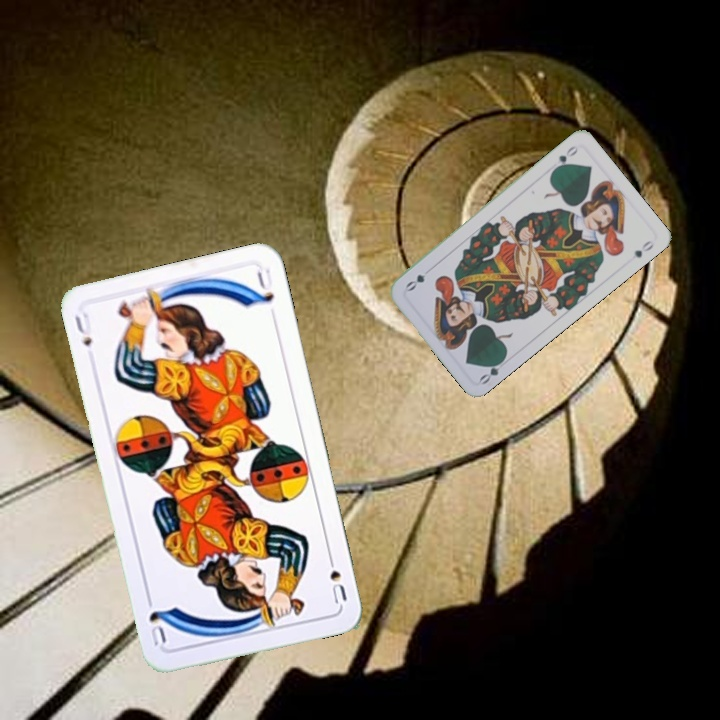GO: (475, 353, 508, 387), (549, 141, 580, 174)
SU: (323, 549, 350, 608), (70, 309, 95, 350)
